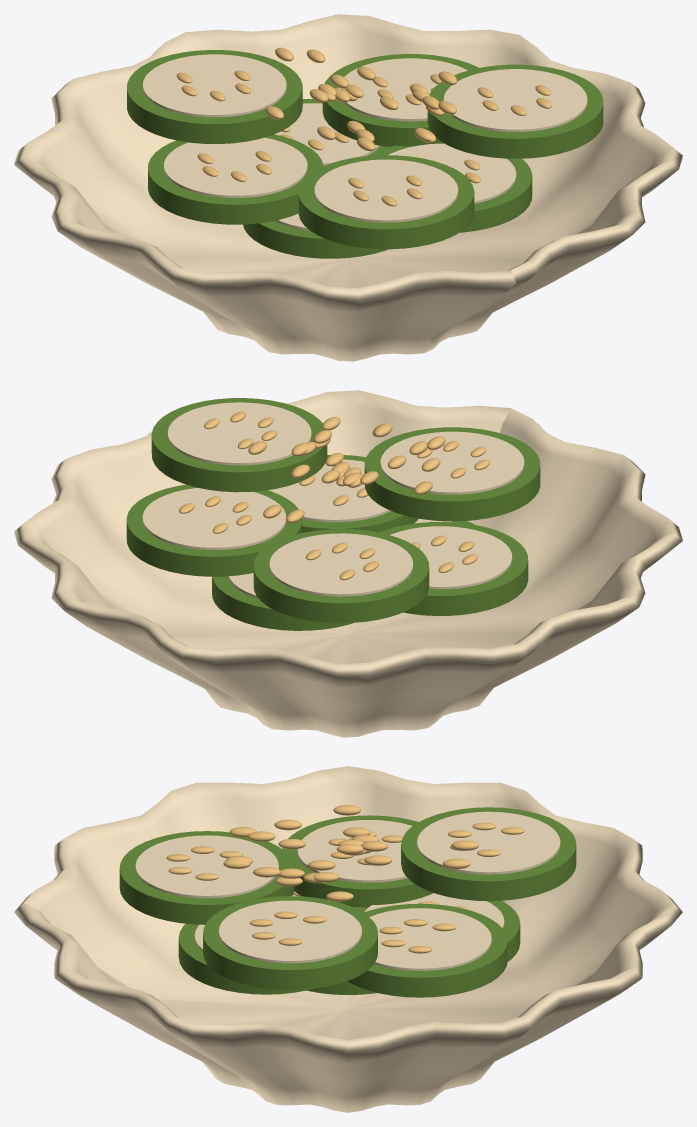
Rendered from 16-cucumber.glb.
3 renders of one model, top to bottom at view 1: azimuth 30°, elevation 25°; view 2: azimuth 150°, elevation 25°; view 3: azimuth 270°, elevation 25°, orthographic.
Visible parts, largest first — view 1: 오이 초절임; view 2: 오이 초절임; view 3: 오이 초절임.
Part boxes in pixels (x1,y1,x2,y2): 오이 초절임: (14, 14, 682, 361); 오이 초절임: (14, 390, 682, 737); 오이 초절임: (14, 766, 682, 1112).
Bounding box in the file's own units: 1.68 × 0.5806 × 1.68.
